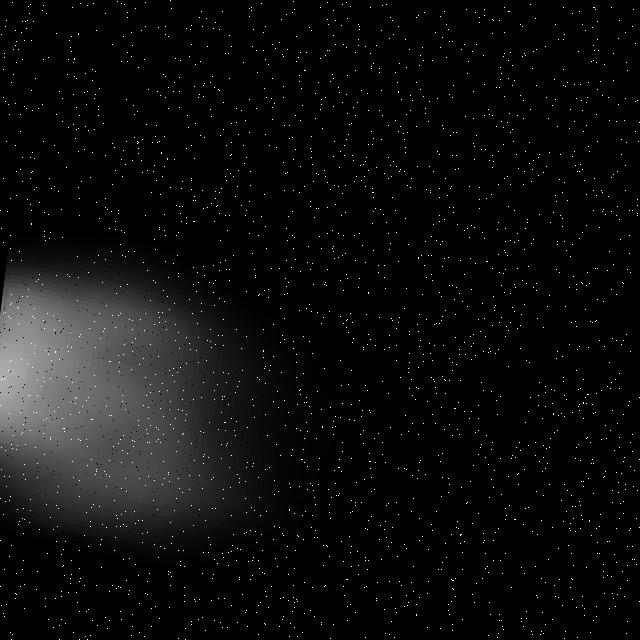person: (1, 252, 414, 600)
